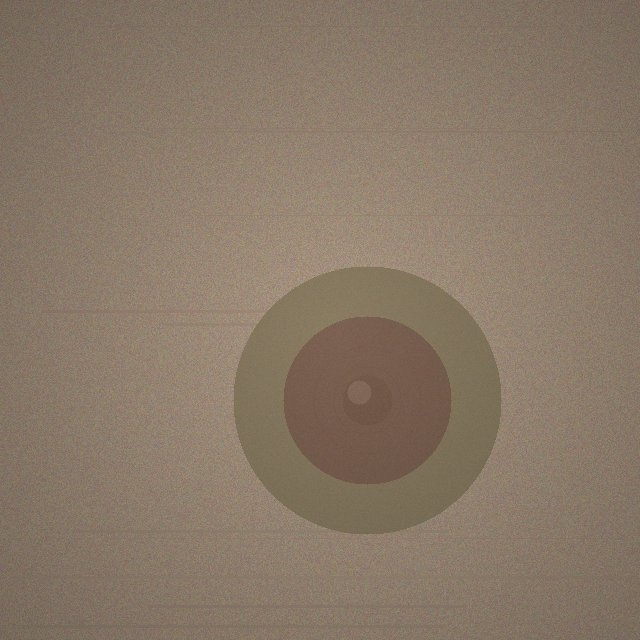good: (233, 266, 501, 534)
